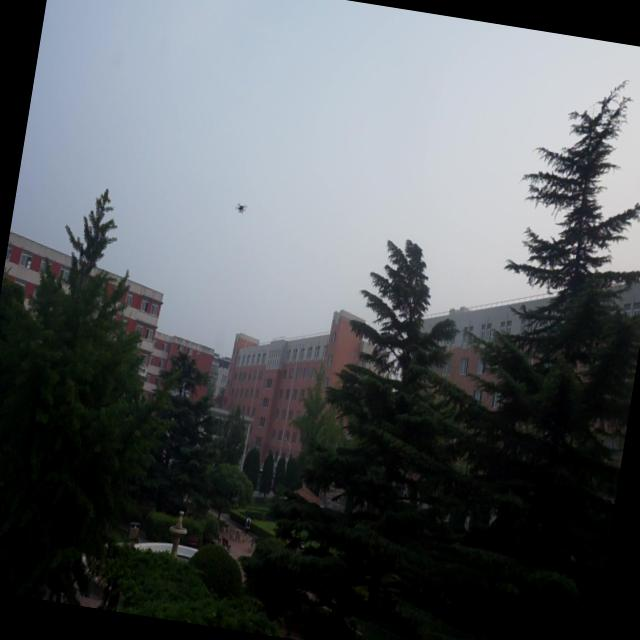drone: (234, 198, 248, 218)
